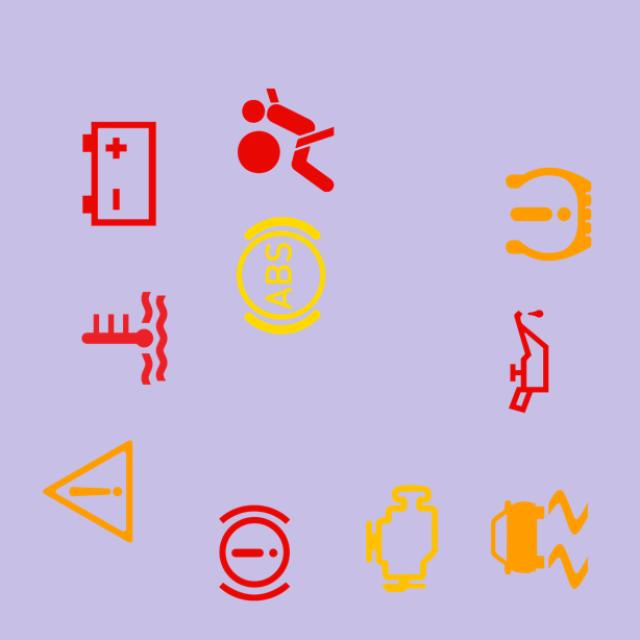Anti Lock Braking System: (217, 212, 345, 340)
Braking System Issue: (191, 489, 319, 617)
Charging System Issue: (55, 110, 184, 238)
Check Engine: (338, 474, 466, 602)
Electronic Stability Problem -ESP-: (476, 476, 604, 604)
Engine Overheating Warning Light: (60, 274, 188, 402)
Low Engine Oil Warning Light: (465, 297, 593, 425)
Low Tire Pressure Warning Light: (485, 150, 613, 278)
Master warning light: (24, 428, 152, 556)
SRS-Airbag: (222, 76, 350, 204)
